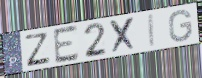2: (83, 22, 108, 59)
E: (52, 23, 80, 66)
G: (168, 9, 194, 43)
I: (148, 12, 157, 49)
X: (109, 15, 138, 55)
Z: (25, 32, 52, 68)
